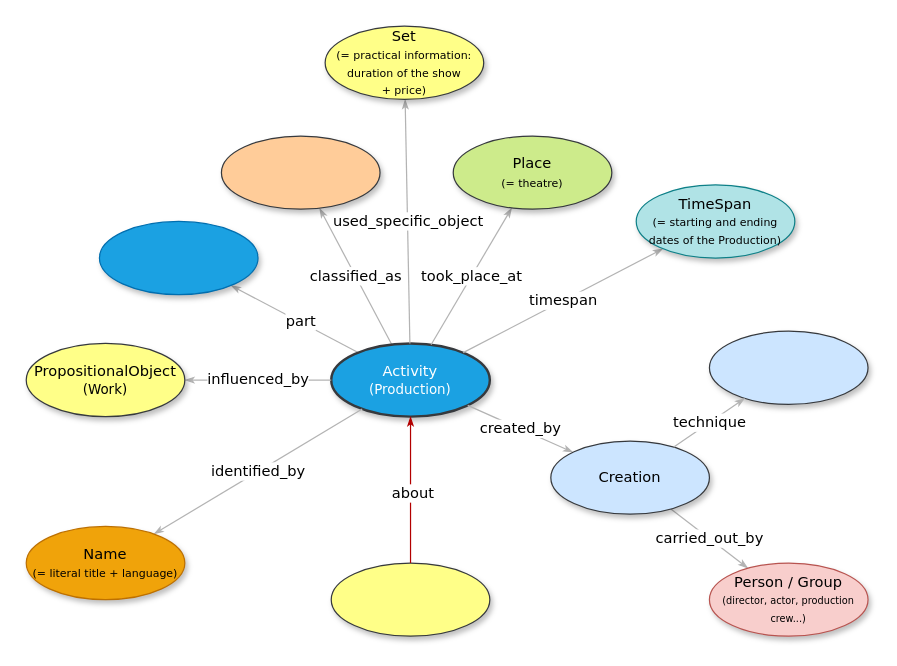
The diagram is 897 pixels wide and 666 high, and some of its shapes have lost their labels. The centre of each missing label's shape, as x and y in pixels:
"Activity (= Festival)" goes at (x=179, y=259).
"HumanMadeObject (= show programme)" goes at (x=411, y=601).
"Role (director, actor, sponsor...)" goes at (x=789, y=369).
"type ( LinguisticObject = genre )" goes at (x=301, y=174).
